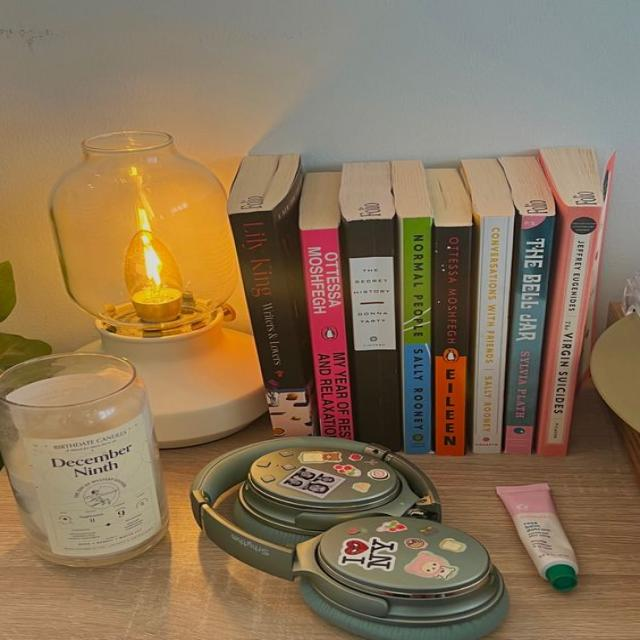book: (229, 210, 315, 440), (537, 206, 605, 455), (343, 219, 404, 450), (300, 227, 352, 440), (507, 214, 552, 455), (476, 218, 515, 452), (399, 215, 433, 454), (436, 225, 471, 455)
candle: (0, 352, 167, 567)
